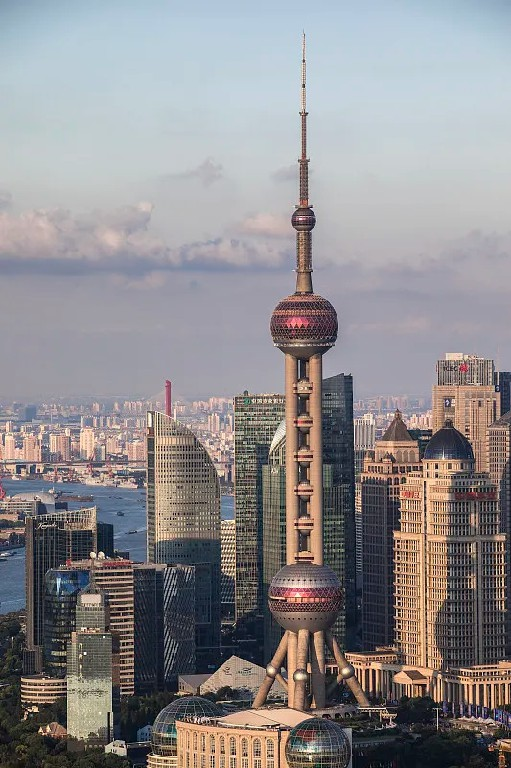Oriental: (252, 31, 370, 712)
